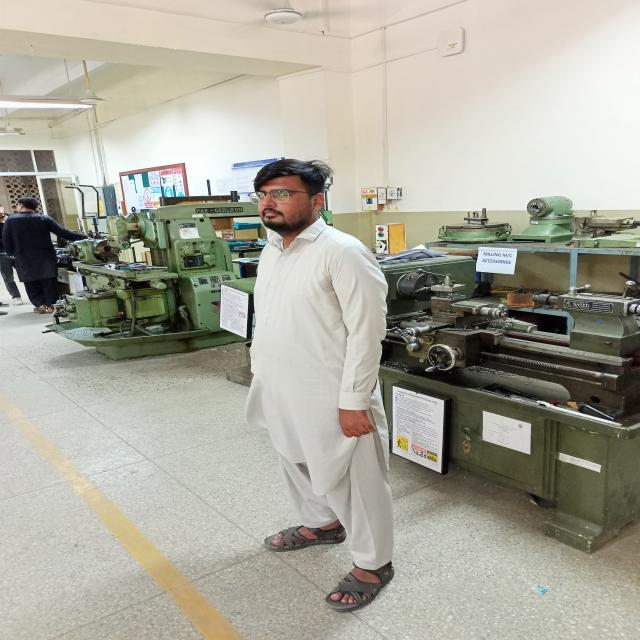dress: (240, 212, 405, 578), (0, 207, 95, 316)
glasses: (241, 188, 307, 205)
